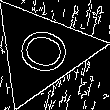O_SE: (7, 21, 76, 81)
